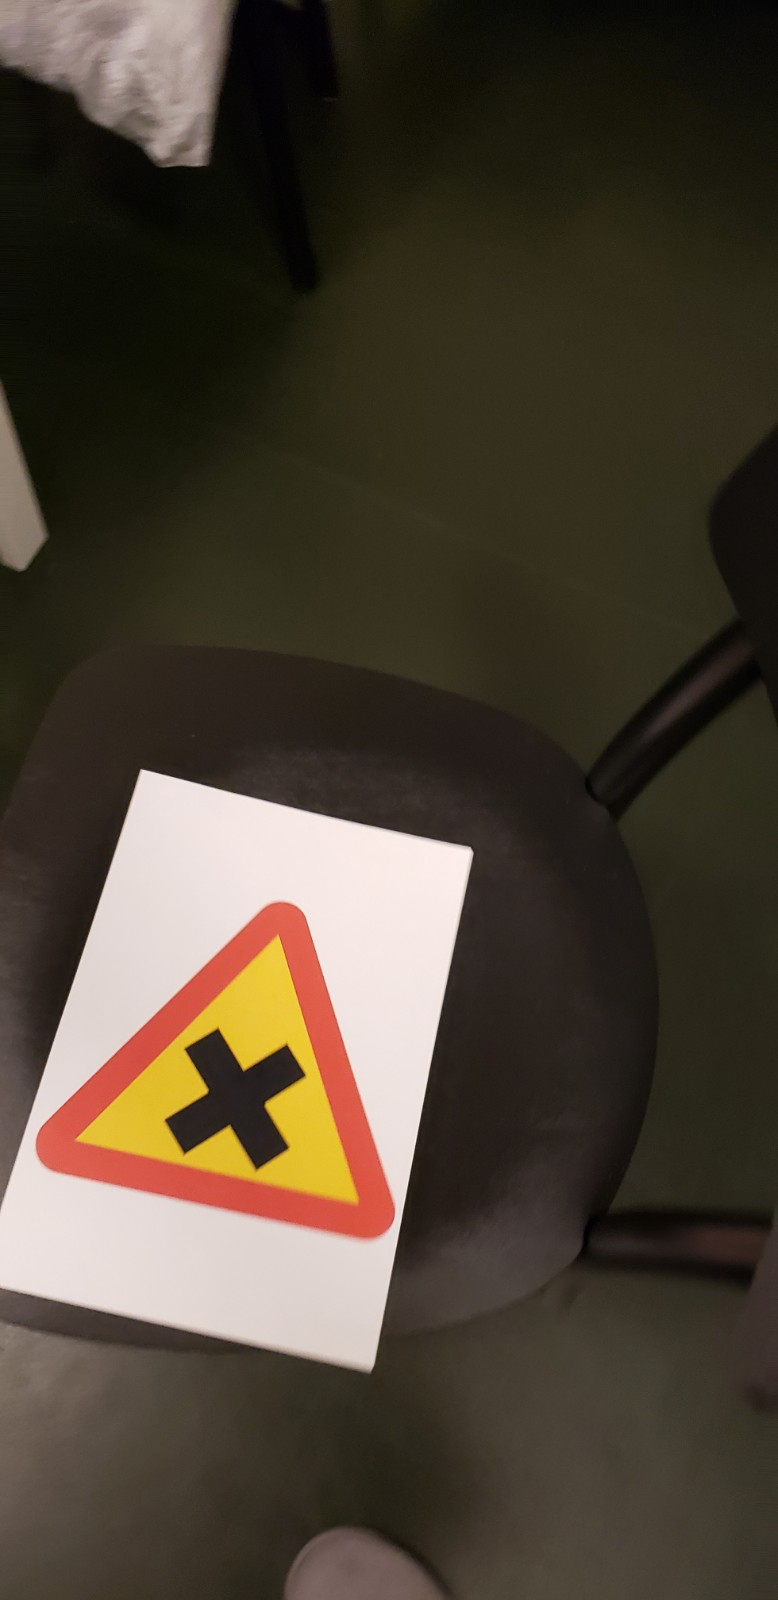junction: (52, 884, 437, 1257)
